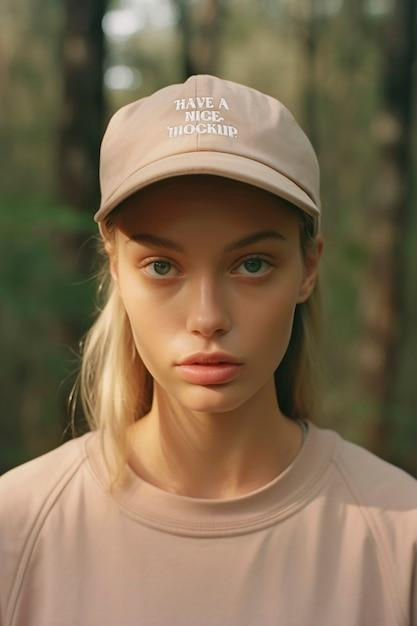cap: (95, 70, 332, 235)
